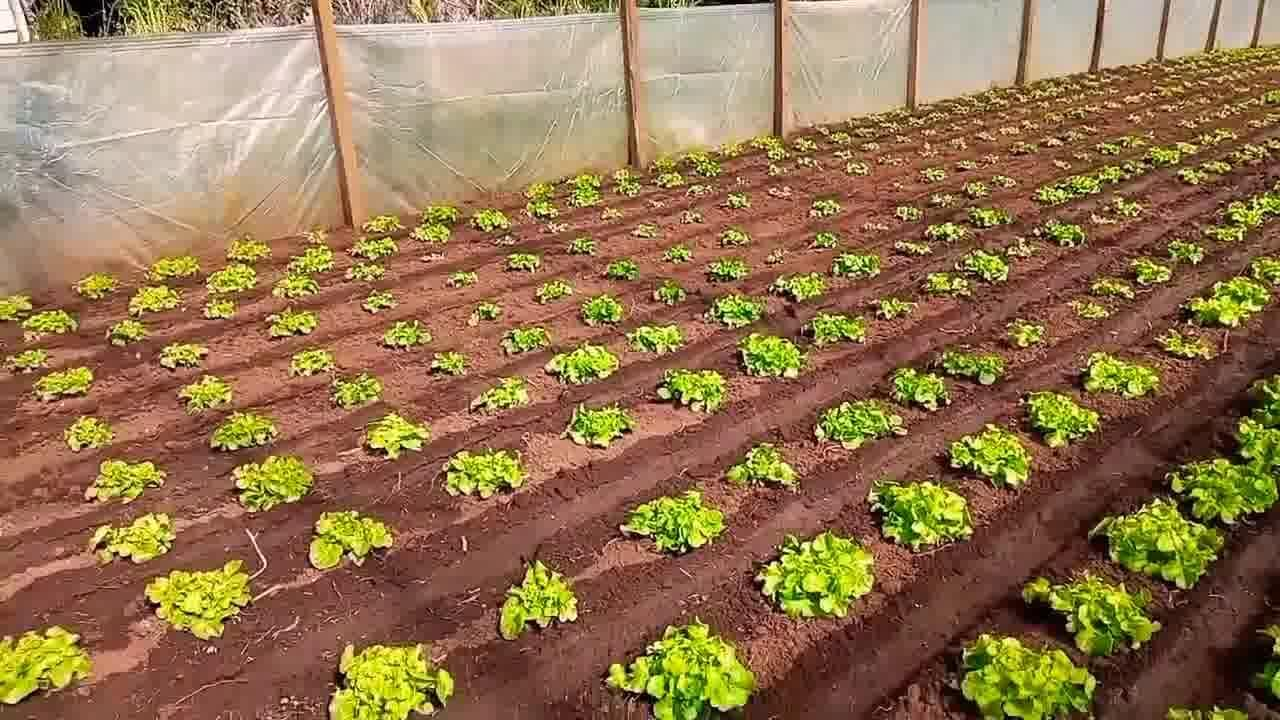Healthy: (603, 624, 760, 720), (1108, 497, 1223, 597), (1022, 575, 1159, 658), (962, 637, 1098, 719), (325, 641, 452, 720), (760, 537, 877, 618), (143, 559, 256, 642), (0, 629, 93, 707), (872, 478, 972, 548), (499, 557, 581, 640), (622, 491, 724, 555), (943, 424, 1035, 488), (234, 461, 313, 522), (1023, 393, 1105, 450), (309, 515, 393, 568), (816, 398, 902, 448), (445, 448, 526, 501), (102, 509, 177, 565), (1085, 349, 1162, 395), (725, 439, 794, 489), (90, 458, 166, 503), (564, 402, 631, 447), (546, 346, 623, 385), (209, 410, 280, 451), (664, 368, 725, 414), (739, 337, 801, 378), (176, 375, 234, 415), (30, 366, 92, 403), (941, 350, 1006, 384), (366, 414, 423, 452), (892, 371, 947, 409), (709, 296, 770, 327), (808, 316, 869, 345), (631, 323, 686, 353), (961, 252, 1011, 285), (129, 285, 184, 314), (335, 374, 380, 409), (204, 266, 260, 294), (581, 294, 625, 328), (829, 252, 883, 279), (20, 309, 77, 334), (500, 326, 548, 355), (771, 272, 824, 298), (1041, 219, 1088, 247), (385, 320, 432, 347), (267, 312, 317, 336), (73, 273, 115, 300), (709, 256, 749, 282), (603, 259, 642, 281), (472, 207, 509, 230), (506, 253, 542, 272)
